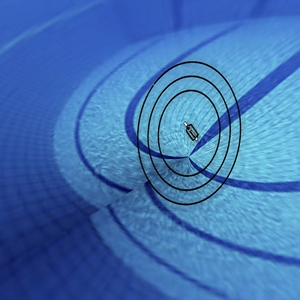circle: (130, 49, 245, 213)
submarine: (175, 112, 206, 147)
